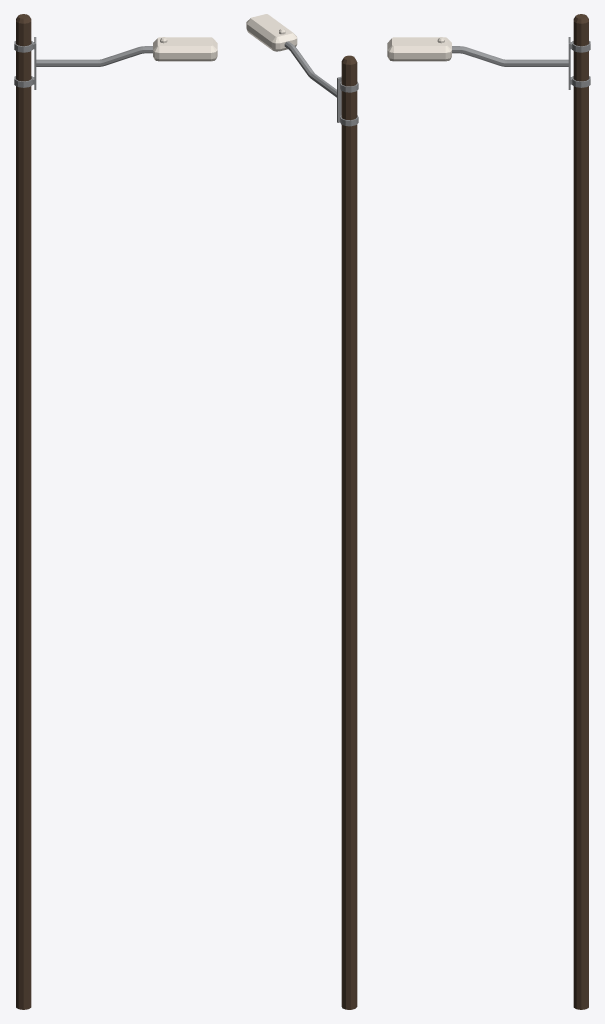
Rendered from SM_Street_SecurityLightPole_Brown_01.gltf.
3 renders of one model, left to right at view 1: azimuth 90°, elevation 25°; view 2: azimuth 210°, elevation 25°; view 3: azimuth 270°, elevation 25°, orthographic. The views are drawn at different scales.
Visible parts, largest first — view 1: SM_Street_SecurityLightPole_Brown_01; view 2: SM_Street_SecurityLightPole_Brown_01; view 3: SM_Street_SecurityLightPole_Brown_01.
Boxes of the visible parts, left/top/right/bottom form: SM_Street_SecurityLightPole_Brown_01: left=14, top=14, right=217, bottom=1009; SM_Street_SecurityLightPole_Brown_01: left=246, top=14, right=358, bottom=1009; SM_Street_SecurityLightPole_Brown_01: left=387, top=14, right=590, bottom=1009.
Size of the model in its own units: 0.14 by 5.07 by 0.9429.
1 material, 1 textured.
